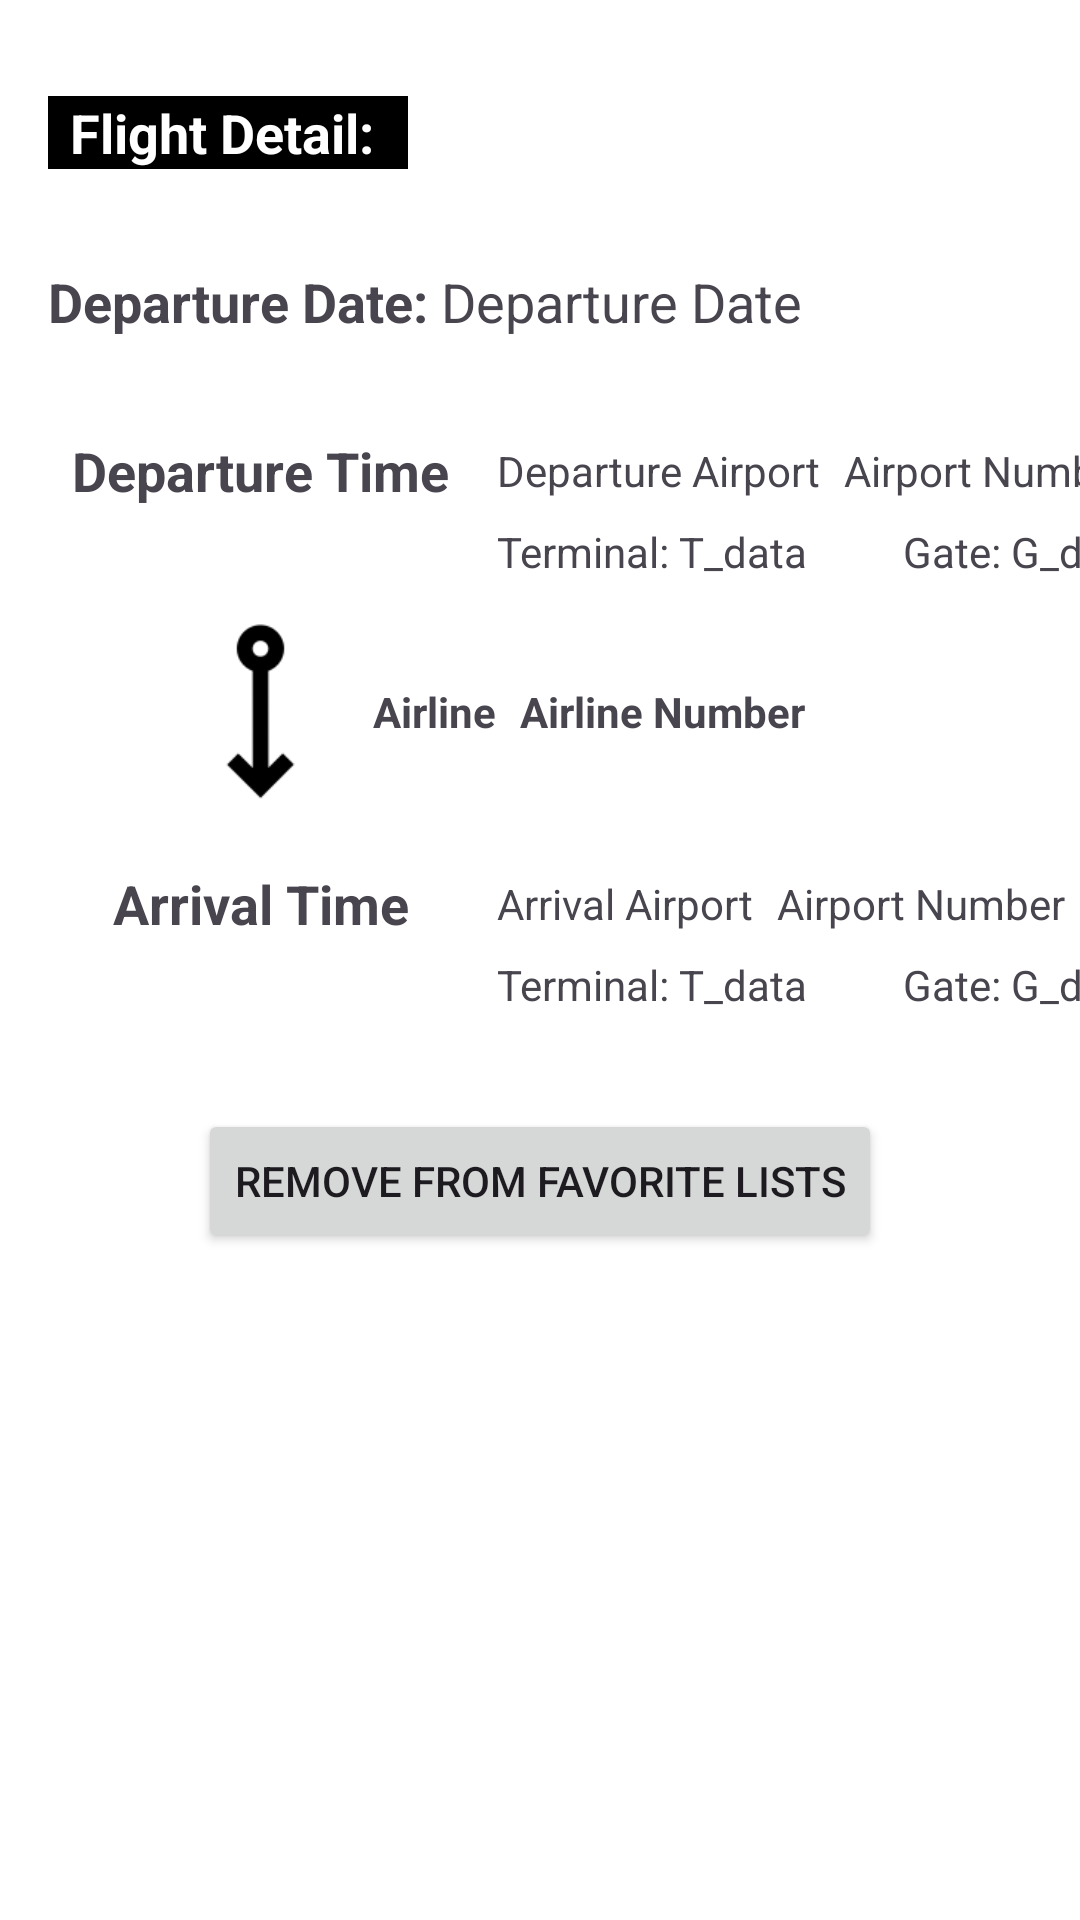

Locate icon controls on the screen. Image size 1080x1920, boxes as (x1=x1, y1=y1, x2=x2, y2=y2).
arrow down: (x1=227, y1=624, x2=295, y2=798)
